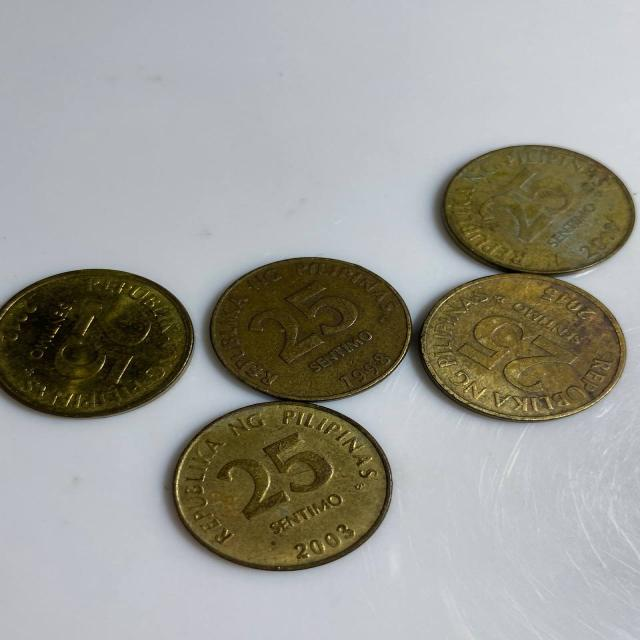25Cent_Old_Front: (211, 434, 340, 510), (464, 309, 574, 393), (56, 304, 150, 387), (251, 280, 351, 357), (484, 167, 569, 238)
